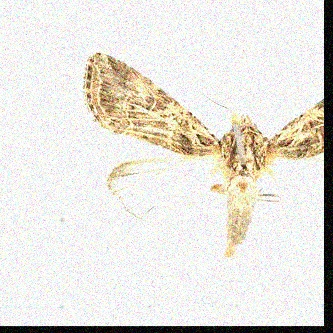Spodoptera litura: (79, 51, 323, 260)
